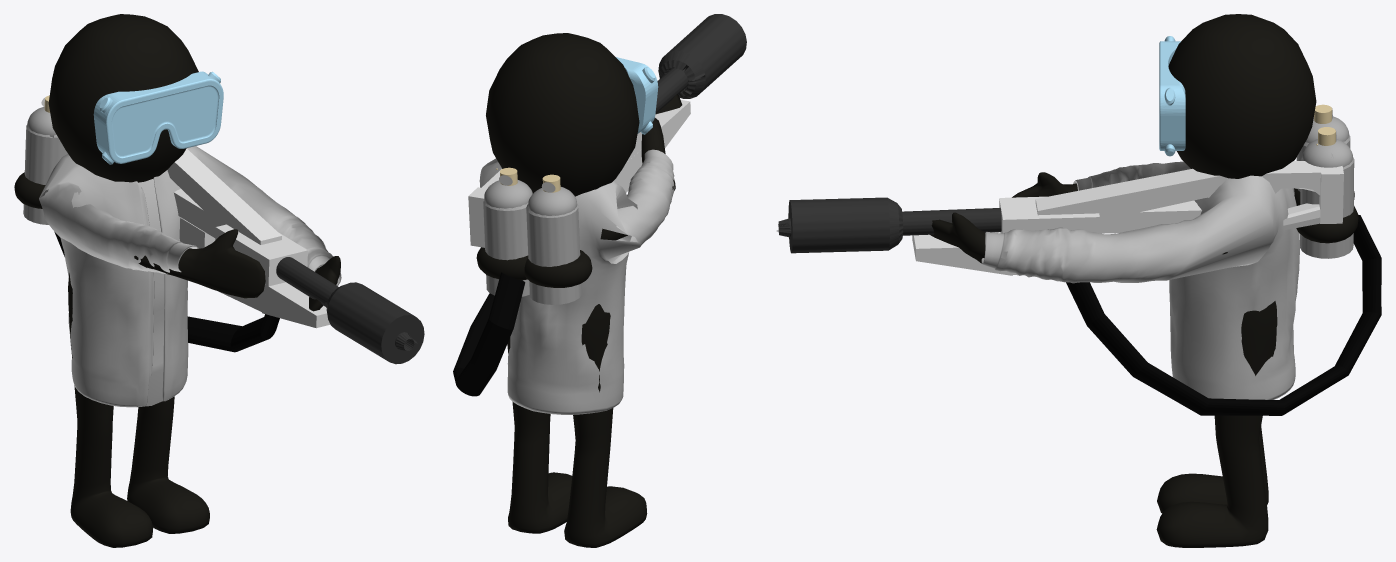
File: Protagonist.fbx
3 renders of one model, left to right at view 1: azimuth 30°, elevation 25°; view 2: azimuth 150°, elevation 25°; view 3: azimuth 270°, elevation 25°, orthographic. The views are drawn at different scales.
Visible parts, largest first — view 1: pCylinder17; view 2: pCylinder17; view 3: pCylinder17.
Part boxes in pixels (x1,y1,x2,y2): pCylinder17: [14, 14, 424, 547]; pCylinder17: [453, 14, 746, 547]; pCylinder17: [777, 14, 1381, 547].
Size of the model in its own units: 249 by 618 by 676.
